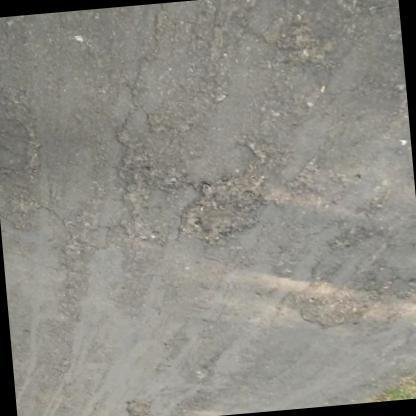pothole: (181, 134, 288, 245), (292, 264, 400, 331), (264, 6, 338, 68), (290, 158, 356, 210), (61, 210, 100, 262)
